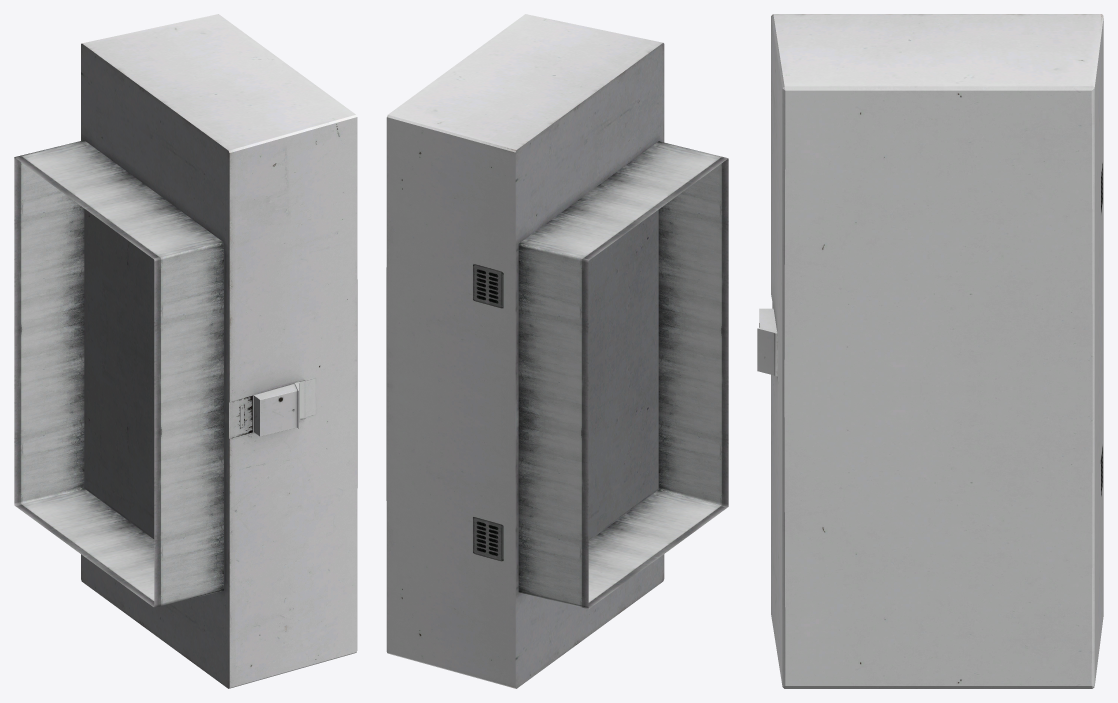
The model's file is S_BoxRooftop_01.dae.
3 renders of one model, left to right at view 1: azimuth 30°, elevation 25°; view 2: azimuth 150°, elevation 25°; view 3: azimuth 270°, elevation 25°, orthographic. The views are drawn at different scales.
Visible parts, largest first — view 1: S_BoxRooftop_01.001; view 2: S_BoxRooftop_01.001; view 3: S_BoxRooftop_01.001.
Boxes of the visible parts, x1,y1,x2,y2 form: S_BoxRooftop_01.001: (14, 14, 357, 688); S_BoxRooftop_01.001: (386, 14, 728, 688); S_BoxRooftop_01.001: (757, 14, 1103, 688).
Bounding box in the file's own units: 1.08 × 1.42 × 2.72.
